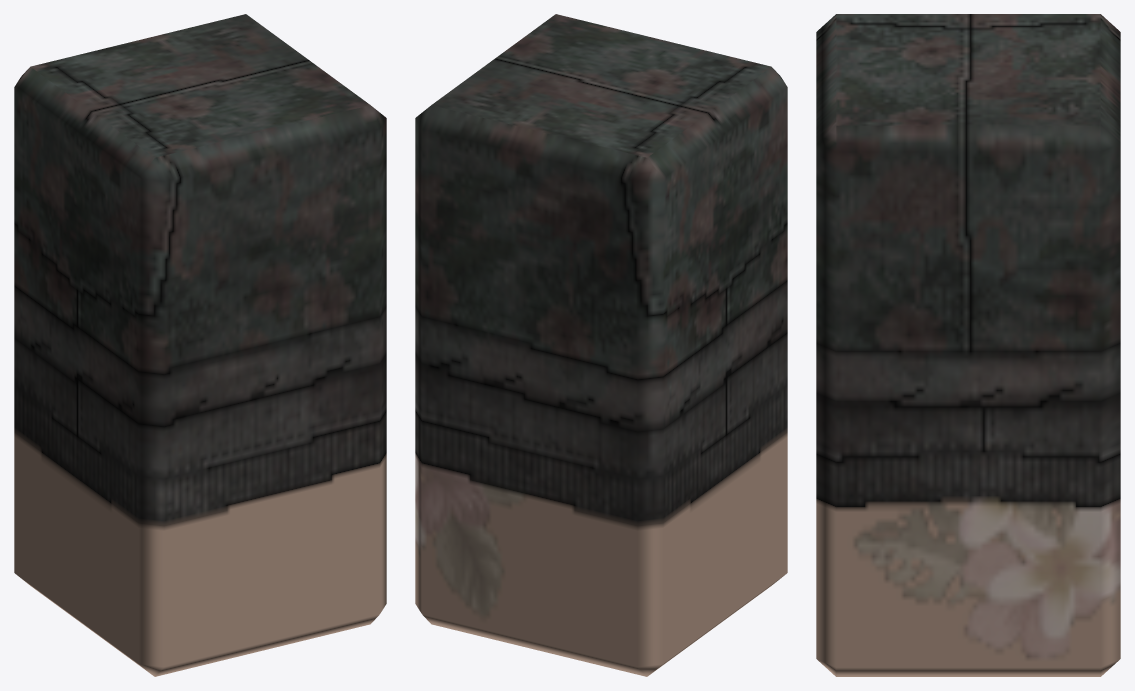
The model's file is ssvean_right_arm.obj.
3 views of the same model, side by side, from view 1: azimuth 30°, elevation 25°; view 2: azimuth 150°, elevation 25°; view 3: azimuth 270°, elevation 25° (orthographic). The views are drawn at different scales.
Parts seen in each view (by area): view 1: Ssvean1; view 2: Ssvean1; view 3: Ssvean1.
Boxes of the visible parts, x1,y1,x2,y2 form: Ssvean1: (14, 14, 386, 676); Ssvean1: (415, 14, 787, 676); Ssvean1: (816, 14, 1120, 676).
Bounding box in the file's own units: 1 × 2 × 1.
1 material, 1 textured.
